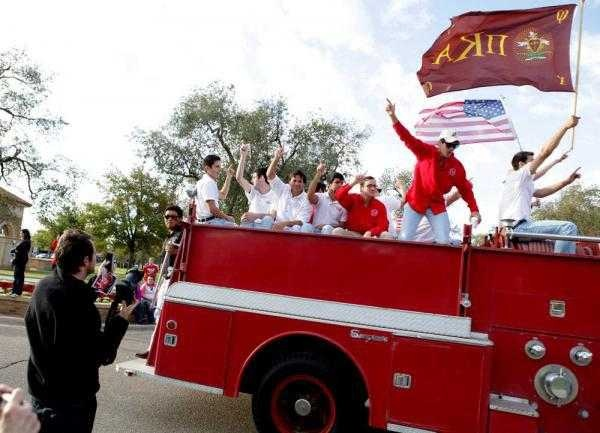Fire Truck: (162, 144, 600, 433)
